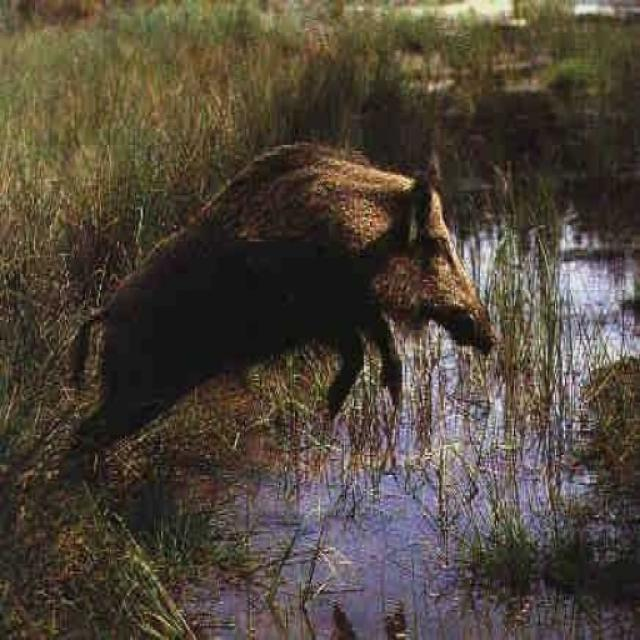pig: (60, 155, 504, 483)
